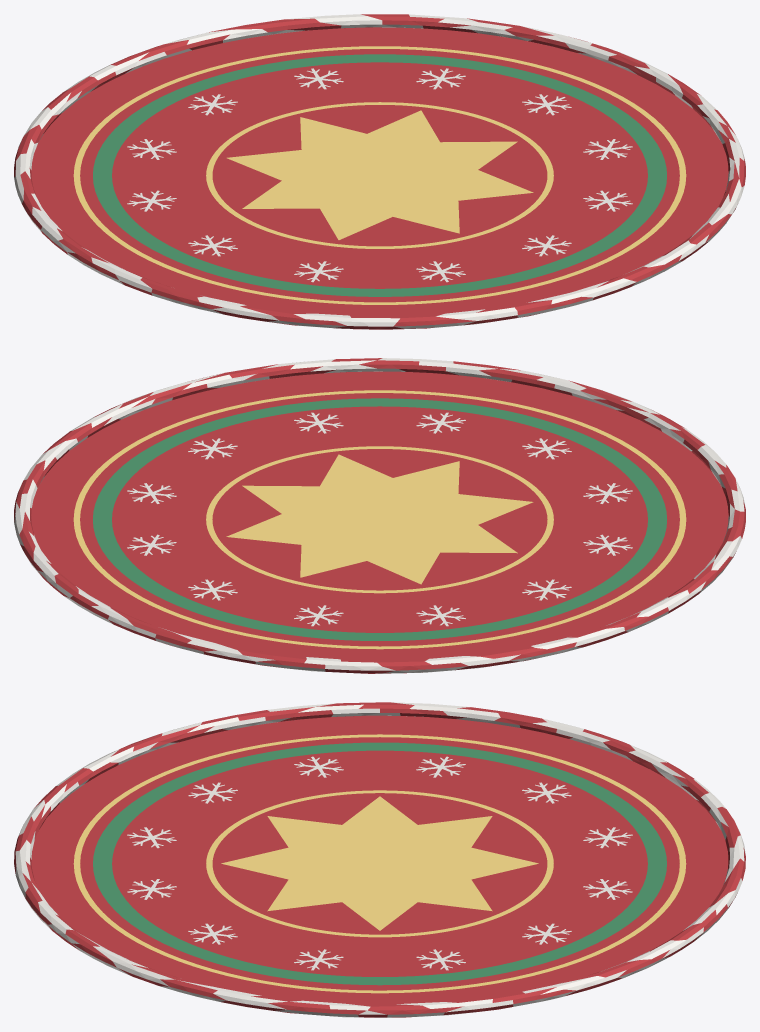
File: Tapete.glb
3 renders of one model, top to bottom at view 1: azimuth 30°, elevation 25°; view 2: azimuth 150°, elevation 25°; view 3: azimuth 270°, elevation 25°, orthographic.
Parts seen in each view (by area): view 1: Tapete; view 2: Tapete; view 3: Tapete.
Boxes of the visible parts, x1,y1,x2,y2 form: Tapete: (14,14,745,329); Tapete: (14,358,745,673); Tapete: (14,702,745,1017).
Size of the model in its own units: 4.59 by 0.0792 by 4.59.
